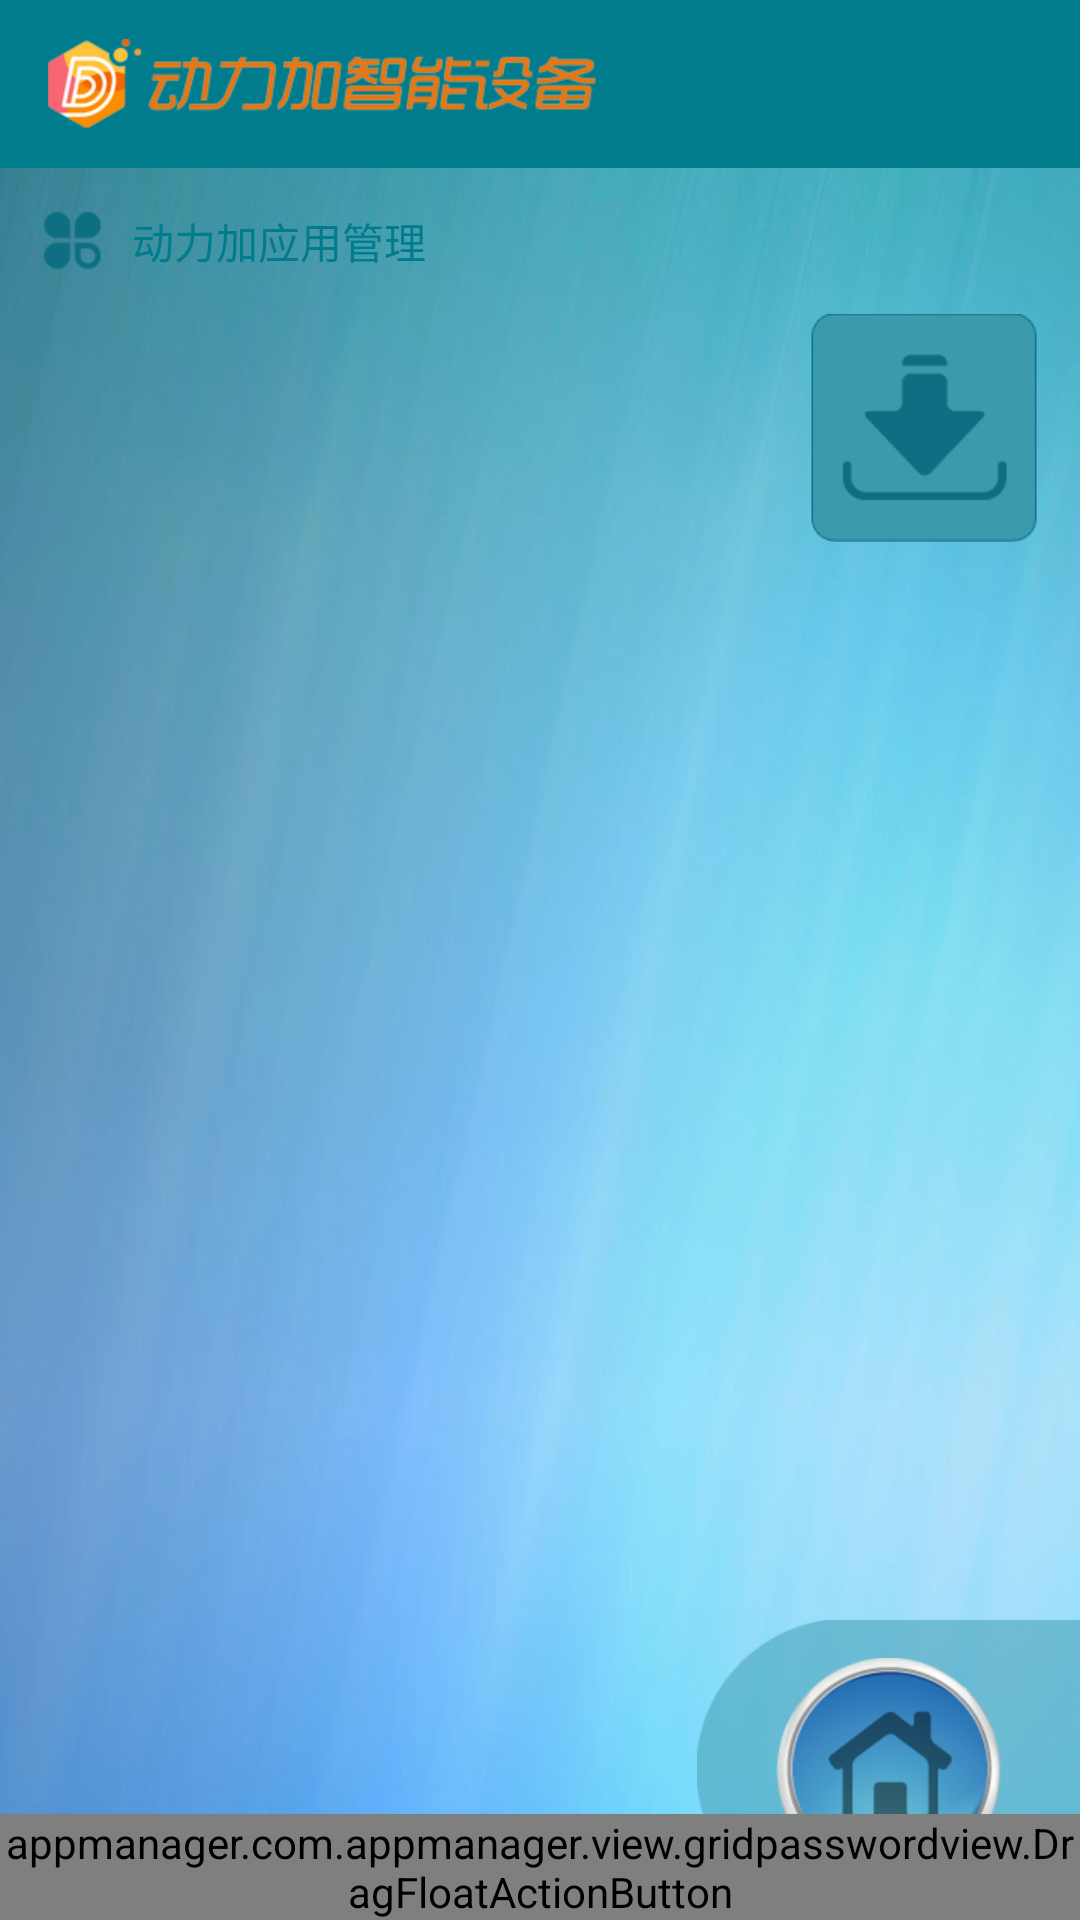

Screen size 1080 × 1920. Icon name, then its box in pixels as (x1, y1, x2, y2):
download: (811, 314, 1037, 542)
